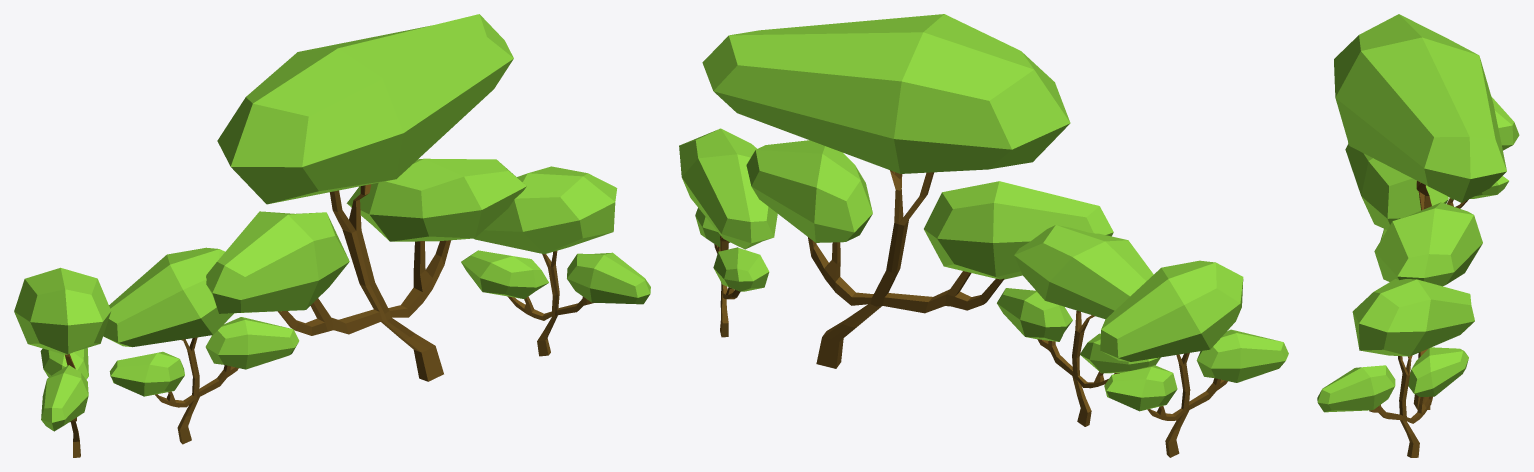
The model's file is Asset_BlockPlain_Trees_01.fbx.
3 views of the same model, side by side, from view 1: azimuth 30°, elevation 25°; view 2: azimuth 150°, elevation 25°; view 3: azimuth 270°, elevation 25° (orthographic). The views are drawn at different scales.
Visible parts, largest first — view 1: Asset_Tree_Plain_014, Asset_Tree_Plain_013, Asset_Tree_Plain_016, Asset_Tree_Plain_015; view 2: Asset_Tree_Plain_014, Asset_Tree_Plain_015, Asset_Tree_Plain_016, Asset_Tree_Plain_013; view 3: Asset_Tree_Plain_014, Asset_Tree_Plain_013, Asset_Tree_Plain_015.
Boxes of the visible parts, bbox=[...] form: Asset_Tree_Plain_014: bbox=[206, 14, 526, 381]; Asset_Tree_Plain_013: bbox=[461, 166, 650, 356]; Asset_Tree_Plain_016: bbox=[103, 247, 299, 444]; Asset_Tree_Plain_015: bbox=[14, 267, 111, 457]; Asset_Tree_Plain_014: bbox=[702, 14, 1113, 368]; Asset_Tree_Plain_015: bbox=[1100, 260, 1288, 457]; Asset_Tree_Plain_016: bbox=[997, 225, 1160, 426]; Asset_Tree_Plain_013: bbox=[679, 128, 777, 337]; Asset_Tree_Plain_014: bbox=[1334, 14, 1506, 409]; Asset_Tree_Plain_013: bbox=[1317, 279, 1474, 457]; Asset_Tree_Plain_015: bbox=[1348, 96, 1519, 208].
Size of the model in its own units: 172 by 98.63 by 54.85.
